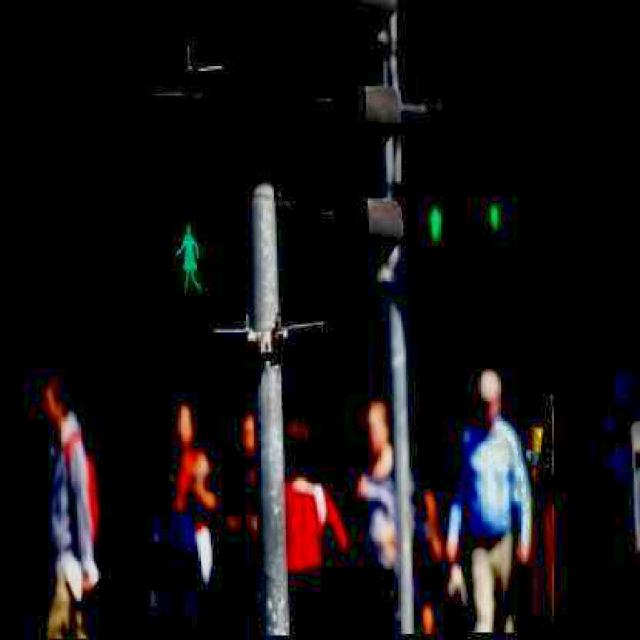semaforo pedestre: (109, 51, 280, 352), (373, 91, 478, 324), (473, 138, 515, 284)
